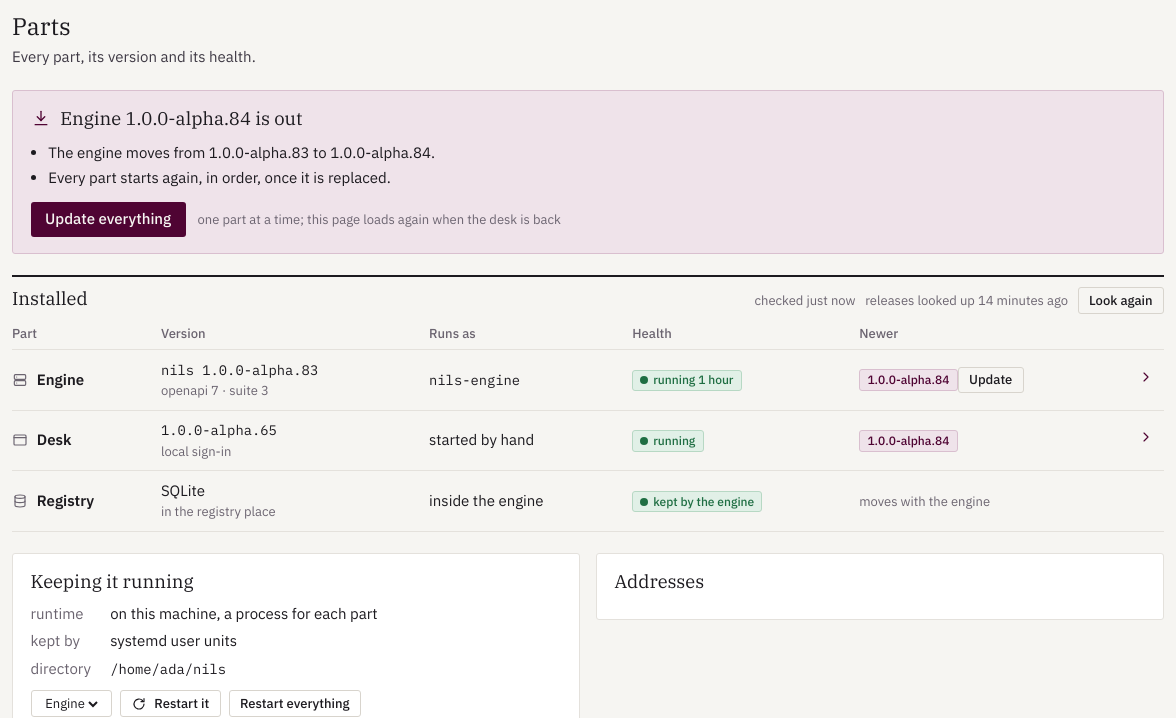
Test case: the Parts page › says when the releases were looked up beside the install's own read, and asks for a look again, then reads the page once more
The width and height of the screenshot is (1176, 718).
Step 1. Click the button "Look again" → coordinates (1121, 300), box [1078, 287, 1164, 314]
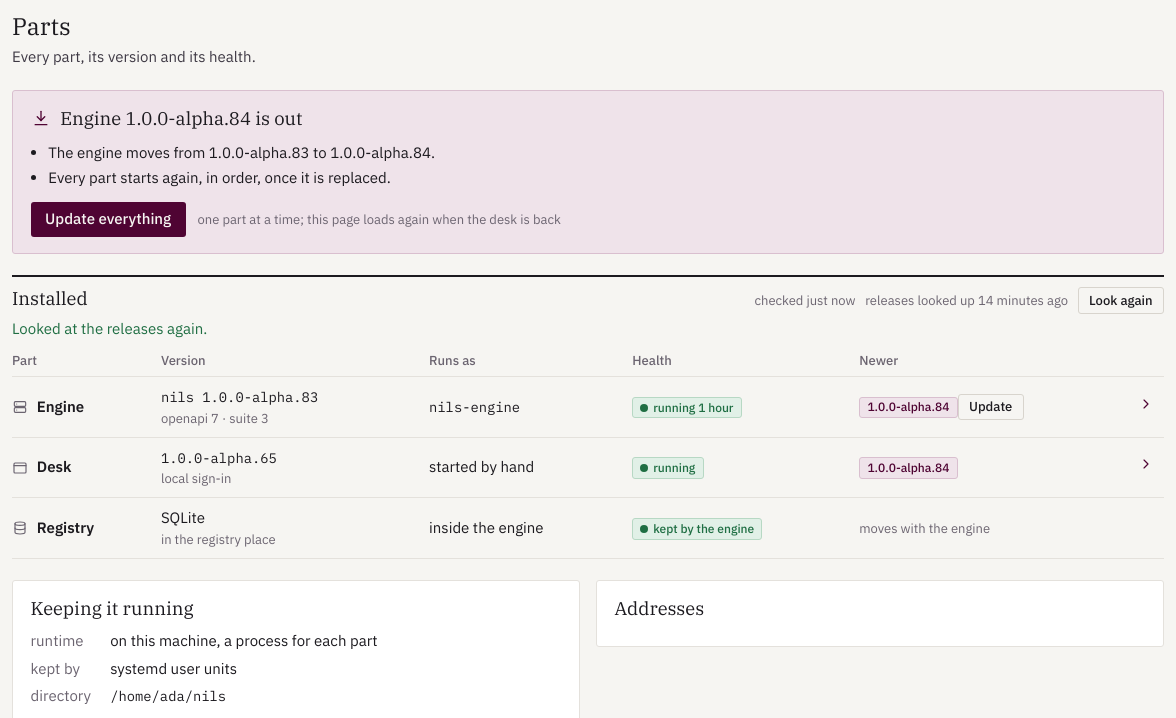
expect the text "Looked at the releases again." is shown: met, box [12, 319, 207, 338]
